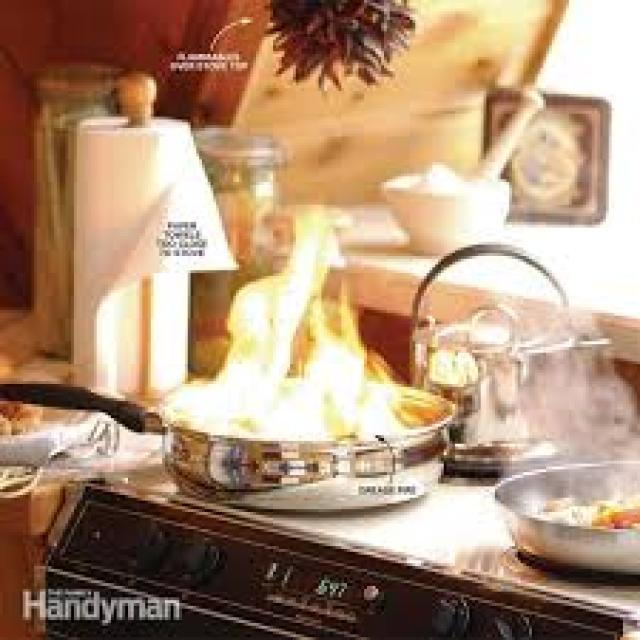Fire: (135, 176, 479, 472)
